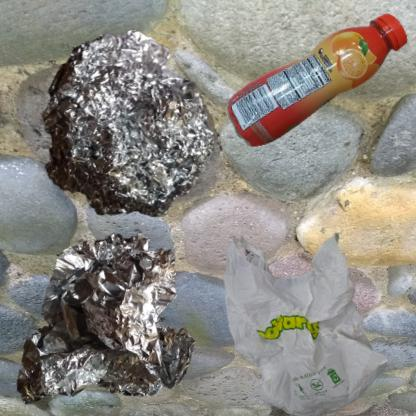aluminio: (10, 10, 248, 262), (10, 213, 226, 416)
bolsa: (213, 213, 404, 416)
botella: (213, 10, 416, 169)
